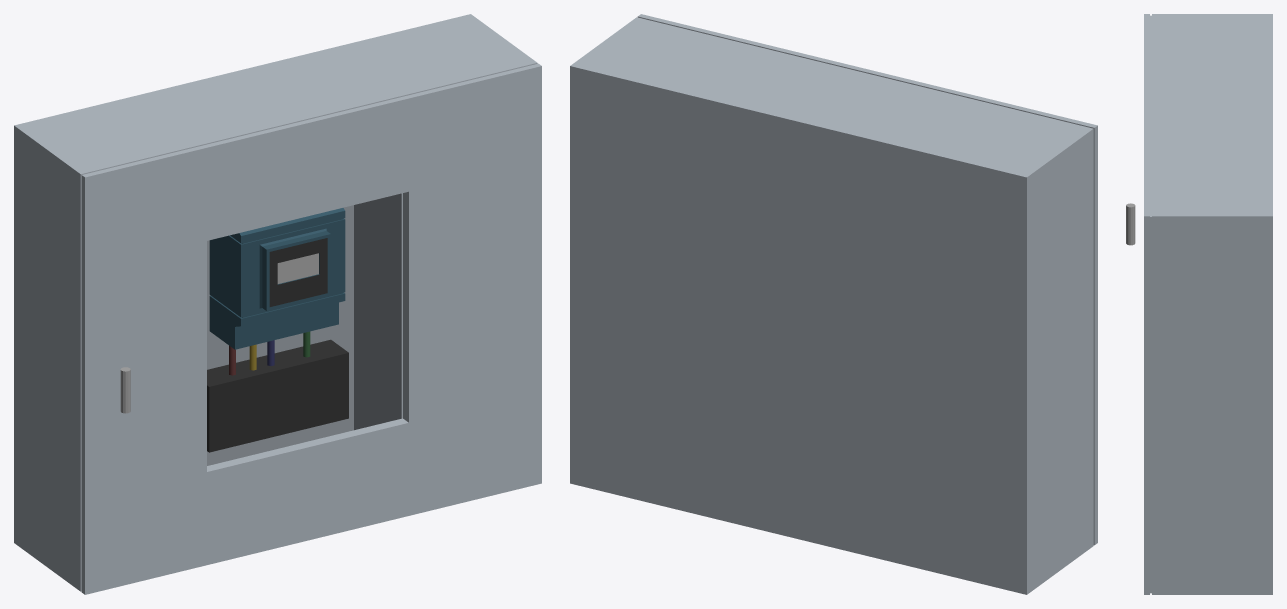
Rendered from ELE.fbx.
3 views of the same model, side by side, from view 1: azimuth 30°, elevation 25°; view 2: azimuth 150°, elevation 25°; view 3: azimuth 270°, elevation 25° (orthographic). The views are drawn at different scales.
Parts seen in each view (by area): view 1: ELE; view 2: ELE; view 3: ELE.
Boxes of the visible parts, x1,y1,x2,y2 form: ELE: [14, 14, 541, 594]; ELE: [570, 14, 1097, 594]; ELE: [1126, 14, 1272, 594].
Size of the model in its own units: 0.5905 by 0.5156 by 0.1811.
2 materials, 1 textured.
